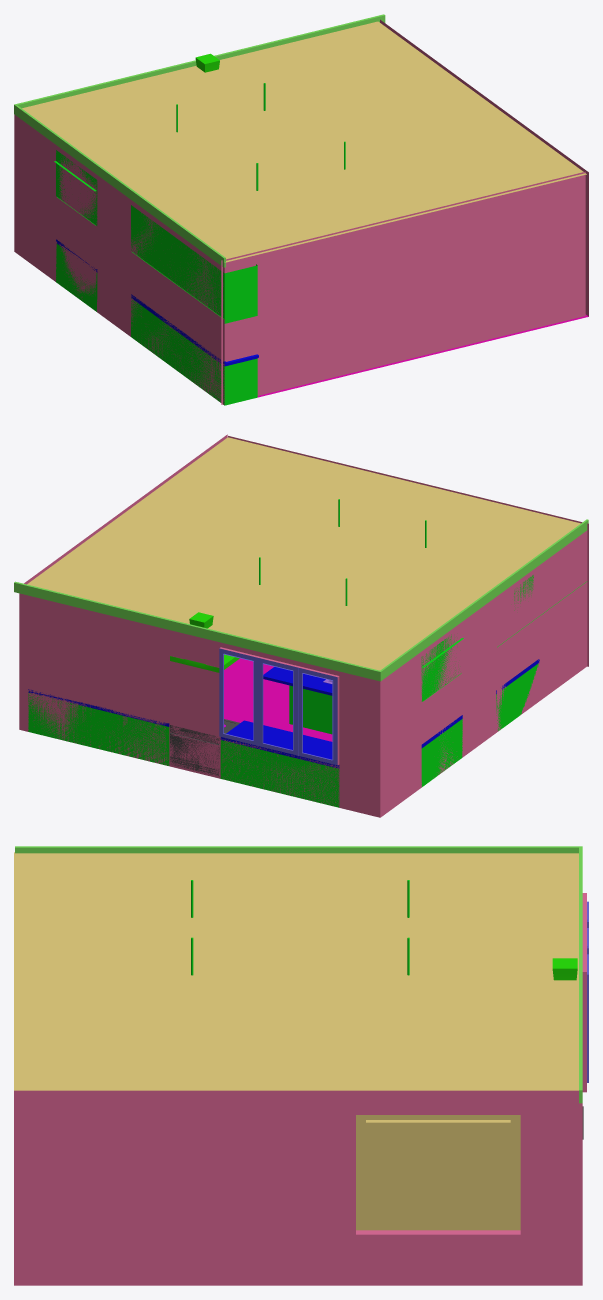
File: Kitchen.fbx
3 views of the same model, one above another, from view 1: azimuth 30°, elevation 25°; view 2: azimuth 150°, elevation 25°; view 3: azimuth 270°, elevation 25° (orthographic). The views are drawn at different scales.
Parts seen in each view (by area): view 1: Plane.009; view 2: Plane.009; view 3: Plane.009, Plane.001.
Boxes of the visible parts, bbox=[...] form: Plane.009: bbox=[14, 14, 588, 405]; Plane.009: bbox=[14, 434, 588, 817]; Plane.009: bbox=[14, 846, 588, 1285]; Plane.001: bbox=[356, 1115, 520, 1234].
Size of the model in its own units: 1457 by 641 by 1444.
